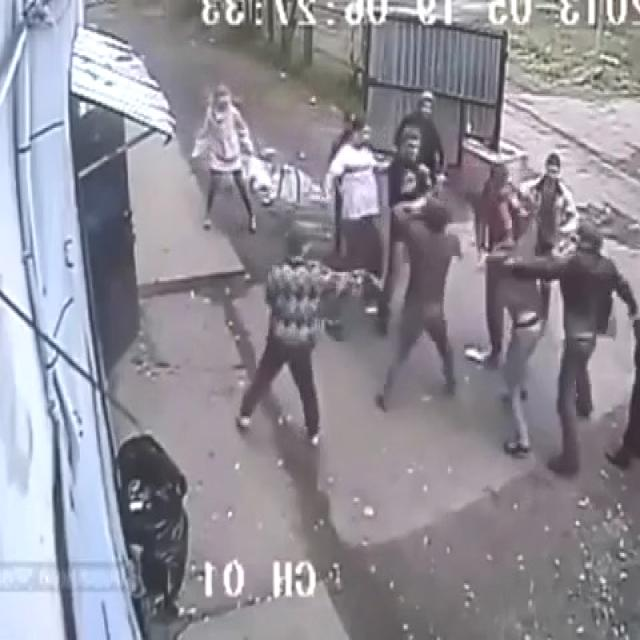fight: (483, 215, 617, 482), (377, 116, 458, 416)
